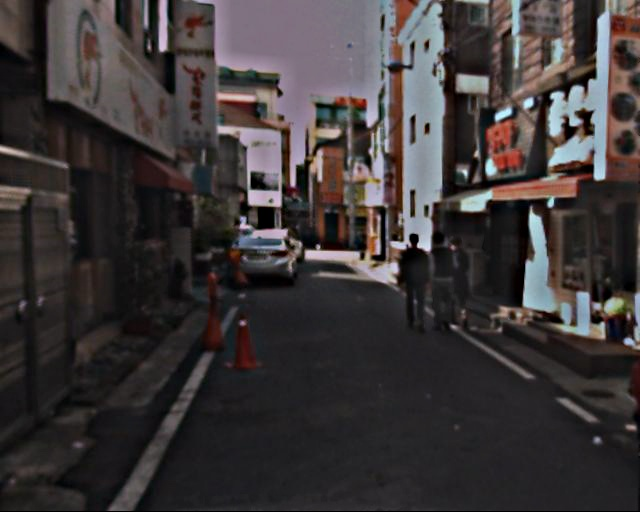person: (395, 232, 436, 333), (424, 233, 464, 331), (442, 234, 480, 327)
